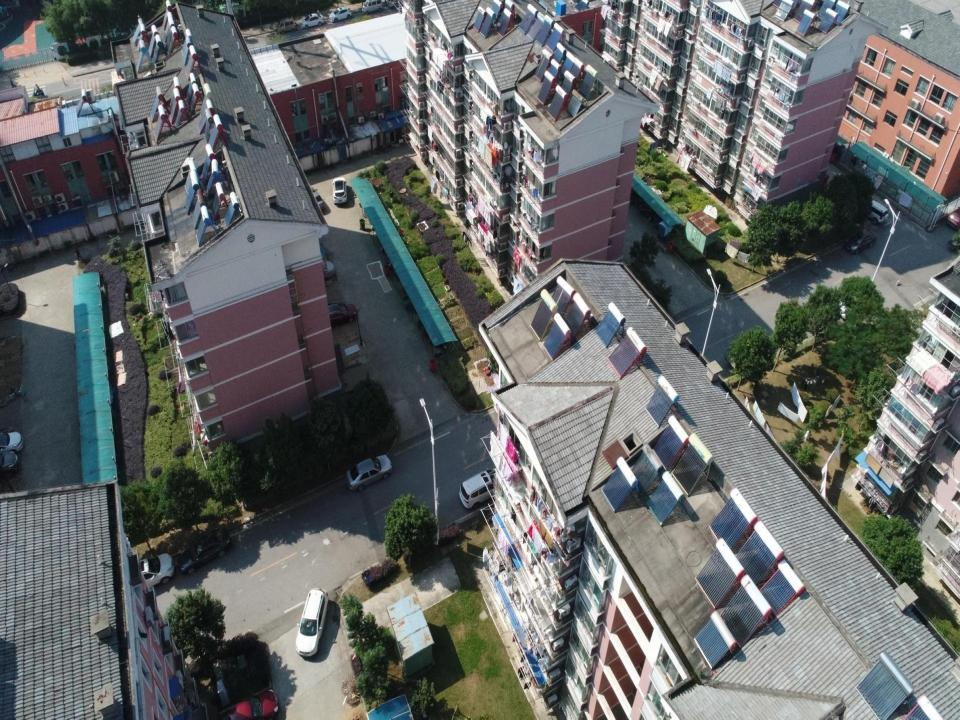car: (177, 527, 231, 574), (296, 588, 330, 657), (126, 552, 174, 591), (346, 454, 392, 492), (224, 687, 278, 719), (317, 301, 356, 329), (844, 228, 877, 254), (861, 200, 889, 224), (306, 260, 334, 280), (0, 431, 24, 454), (0, 452, 19, 476), (331, 177, 347, 204), (308, 187, 325, 210), (946, 208, 959, 230)
van: (459, 467, 508, 509)
